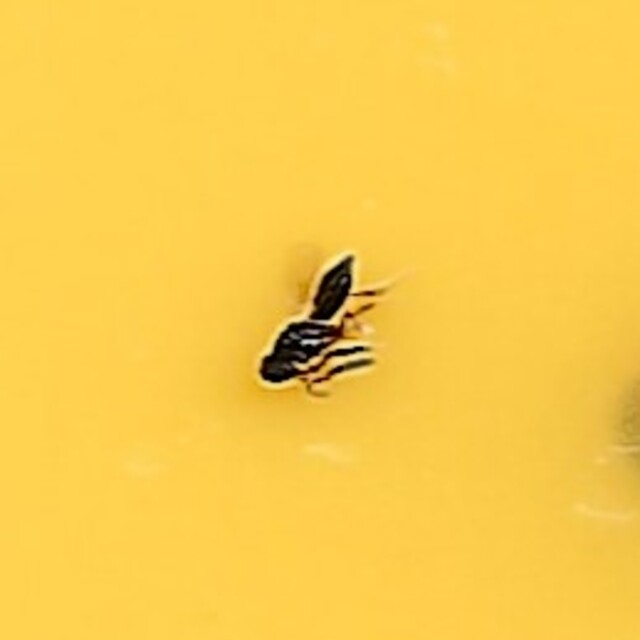Hymenoptera: (247, 241, 393, 399)
